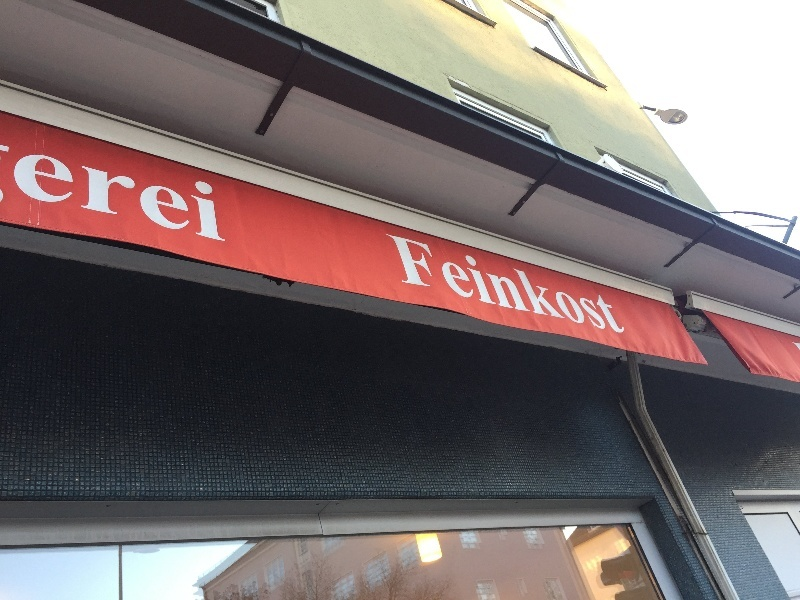text: (385, 233, 400, 336), (401, 233, 416, 336), (417, 233, 432, 336), (433, 233, 448, 336), (449, 233, 464, 336), (465, 233, 480, 336), (481, 233, 496, 336), (497, 233, 512, 336), (513, 233, 528, 336), (529, 233, 544, 336), (545, 233, 560, 336), (561, 233, 576, 336), (577, 233, 592, 336), (593, 233, 608, 336), (609, 233, 624, 336), (17, 151, 32, 244), (33, 151, 48, 244), (49, 151, 64, 244), (65, 151, 80, 244), (81, 151, 96, 244), (97, 151, 112, 244), (113, 151, 128, 244), (129, 151, 144, 244), (145, 151, 160, 244), (161, 151, 176, 244), (177, 151, 192, 244), (193, 151, 208, 244), (209, 151, 224, 244), (625, 233, 628, 336), (15, 151, 16, 244), (225, 151, 226, 244)
